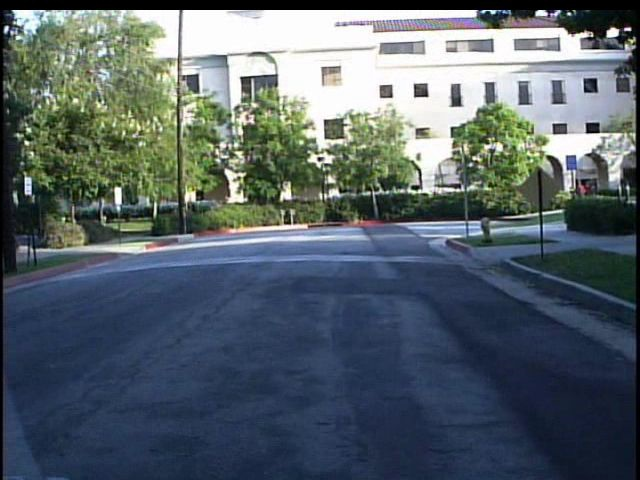person: (571, 178, 591, 221)
